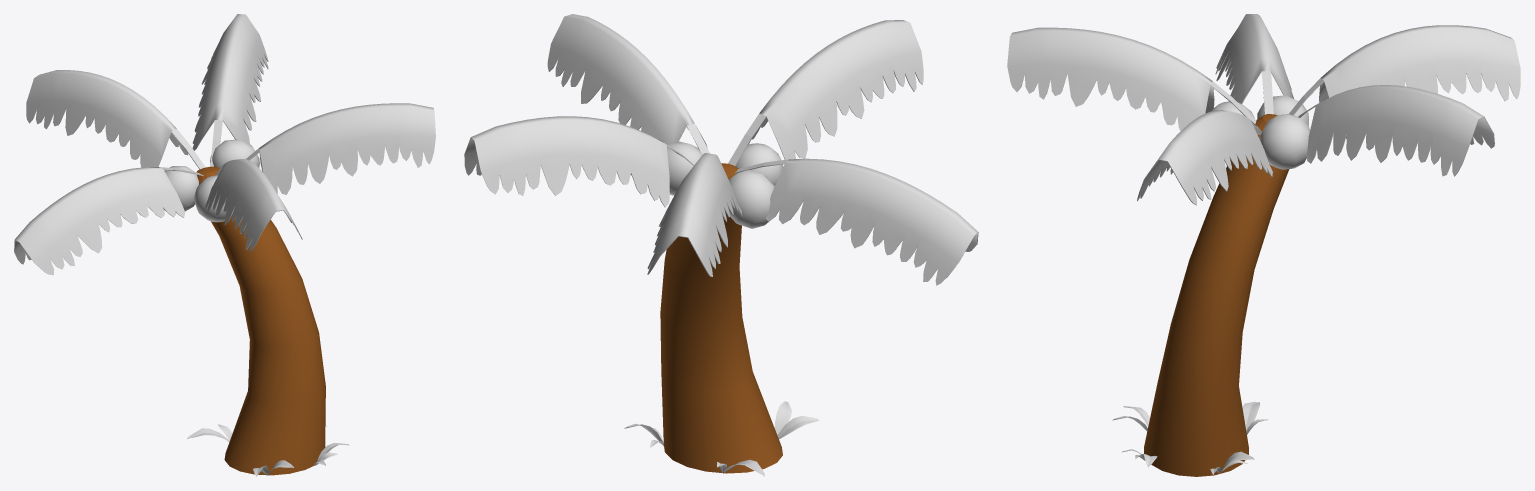
Rendered from Palmtree.FBX.
The picture shows the model from 3 angles, left to right: view 1: azimuth 30°, elevation 25°; view 2: azimuth 150°, elevation 25°; view 3: azimuth 270°, elevation 25°; orthographic projection. The views are drawn at different scales.
Parts seen in each view (by area): view 1: Cylinder042, Plane082, Plane080, Plane081, Plane083, Plane067, Sphere034, Sphere033, Sphere032; view 2: Cylinder042, Plane080, Plane083, Plane067, Plane082, Plane081, Sphere034, Sphere033, Sphere032; view 3: Cylinder042, Plane067, Plane083, Plane081, Plane082, Plane080, Sphere033, Sphere034.
Boxes of the visible parts, x1,y1,x2,y2 form: Cylinder042: (196, 166, 325, 475); Plane082: (246, 103, 435, 194); Plane080: (14, 167, 203, 275); Plane081: (26, 70, 205, 169); Plane083: (192, 14, 268, 166); Plane067: (204, 159, 302, 252); Sphere034: (163, 166, 198, 213); Sphere033: (210, 139, 259, 167); Sphere032: (193, 175, 233, 222); Cylinder042: (660, 163, 782, 473); Plane080: (735, 158, 978, 285); Plane083: (464, 116, 694, 207); Plane067: (728, 20, 923, 165); Plane082: (547, 14, 709, 154); Plane081: (647, 153, 742, 276); Sphere034: (728, 170, 774, 228); Sphere033: (667, 141, 702, 195); Sphere032: (735, 143, 783, 185); Cylinder042: (1144, 114, 1288, 476); Plane067: (1007, 27, 1256, 131); Plane083: (1298, 85, 1494, 176); Plane081: (1289, 25, 1520, 115); Plane082: (1137, 110, 1272, 205); Plane080: (1215, 14, 1293, 114); Sphere033: (1259, 114, 1309, 169); Sphere034: (1257, 95, 1308, 125).
Size of the model in its own units: 201 by 167 by 198.
